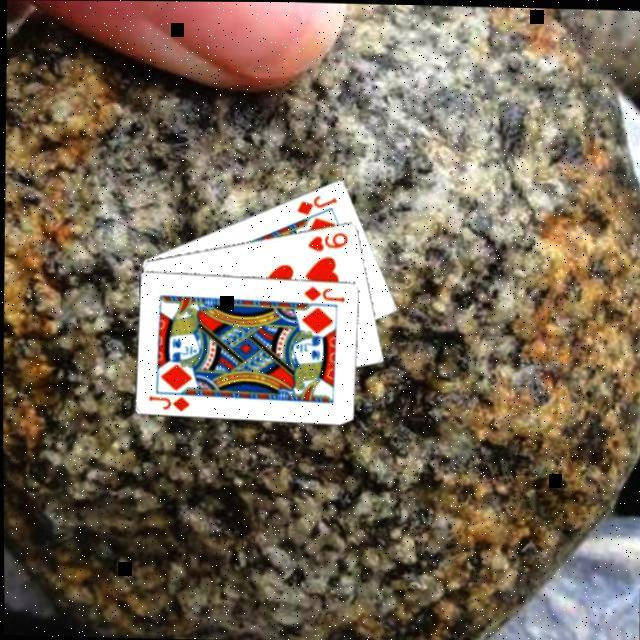9H: (305, 226, 351, 253)
JD: (293, 190, 339, 216), (301, 280, 347, 303), (146, 390, 192, 413)
